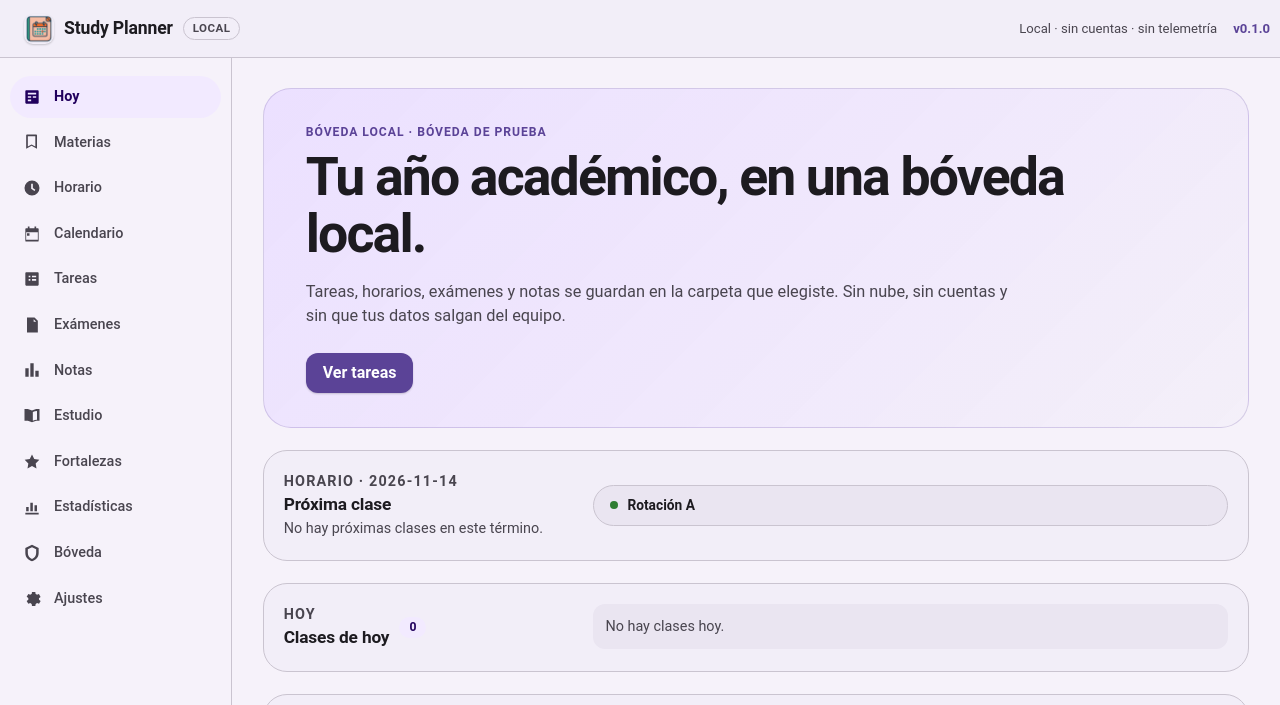
Scenario: App con IPC de Tauri › oculta el autoactualizador en una instalación MSIX
This screenshot has width=1280, height=705.
Click the button "Ajustes" at point(116, 598), box [10,578,221,619]
(page scrolled)
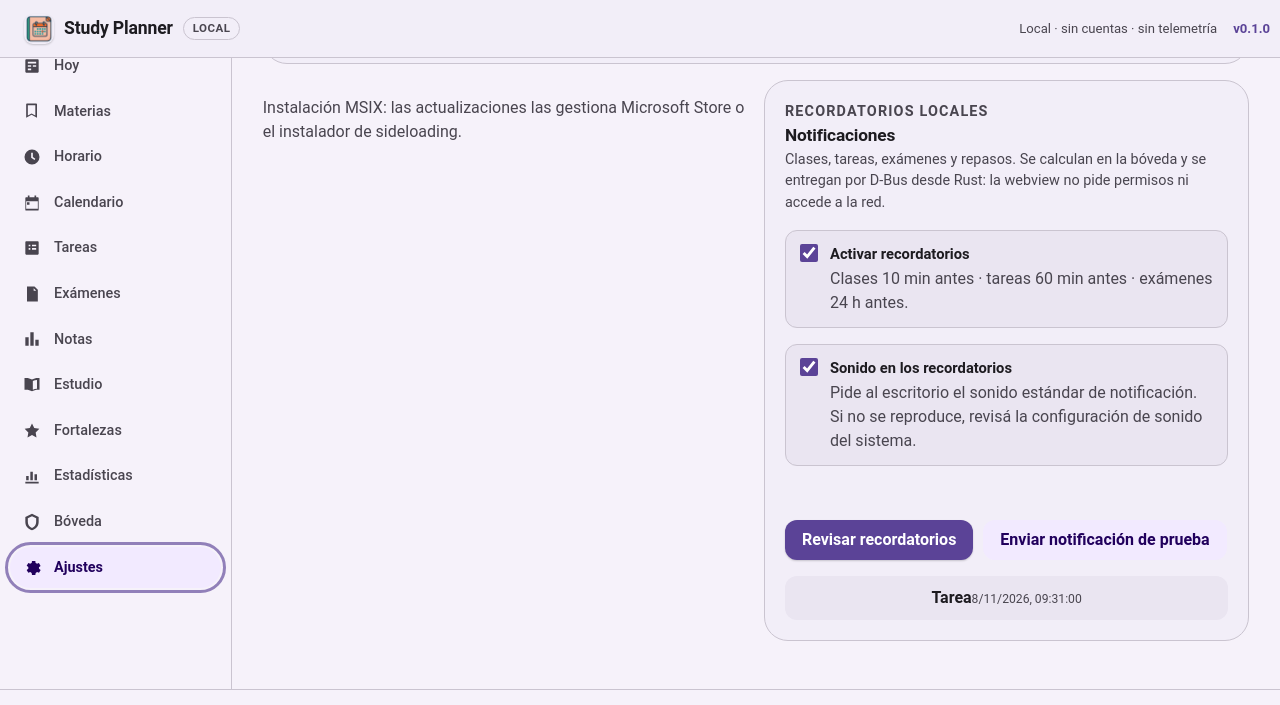
Expected: the text "Instalación MSIX" is shown, [263,98,744,141]
